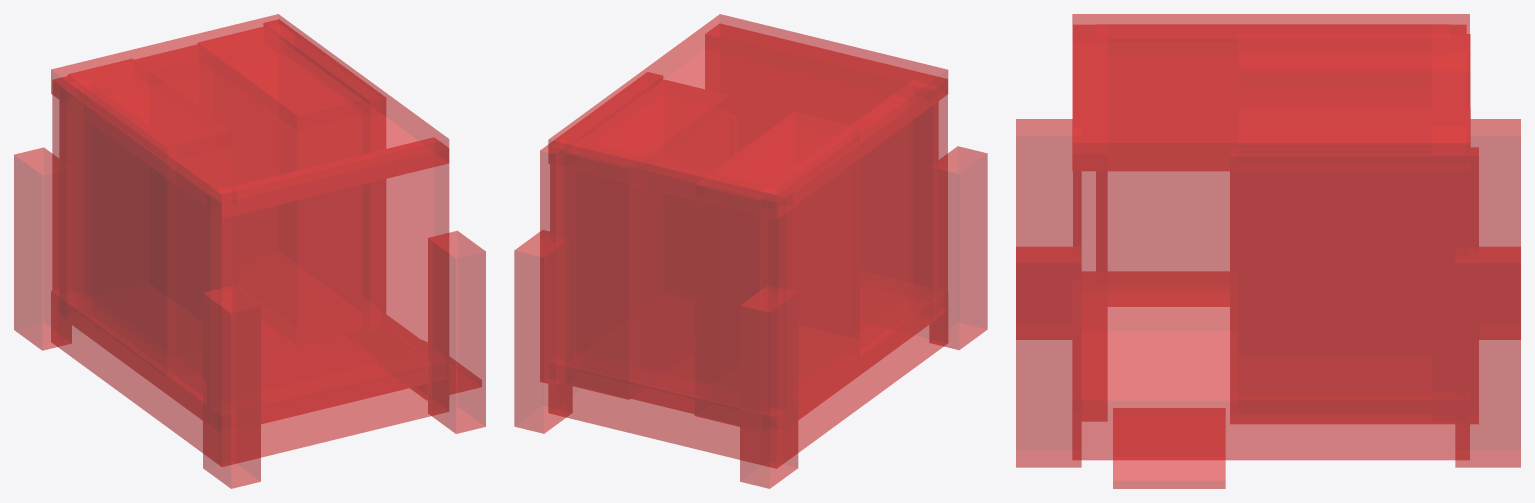
The model's file is SM_Prop_Drone_Control_Room_02_Collision.fbx.
3 views of the same model, side by side, from view 1: azimuth 30°, elevation 25°; view 2: azimuth 150°, elevation 25°; view 3: azimuth 270°, elevation 25° (orthographic). The views are drawn at different scales.
Parts seen in each view (by area): view 1: SM_Prop_Drone_Control_Room_02_Collision; view 2: SM_Prop_Drone_Control_Room_02_Collision; view 3: SM_Prop_Drone_Control_Room_02_Collision.
Boxes of the visible parts, x1,y1,x2,y2 form: SM_Prop_Drone_Control_Room_02_Collision: (14,14,485,488); SM_Prop_Drone_Control_Room_02_Collision: (514,14,987,488); SM_Prop_Drone_Control_Room_02_Collision: (1016,14,1520,488).
Size of the model in its own units: 322 by 287 by 414.
